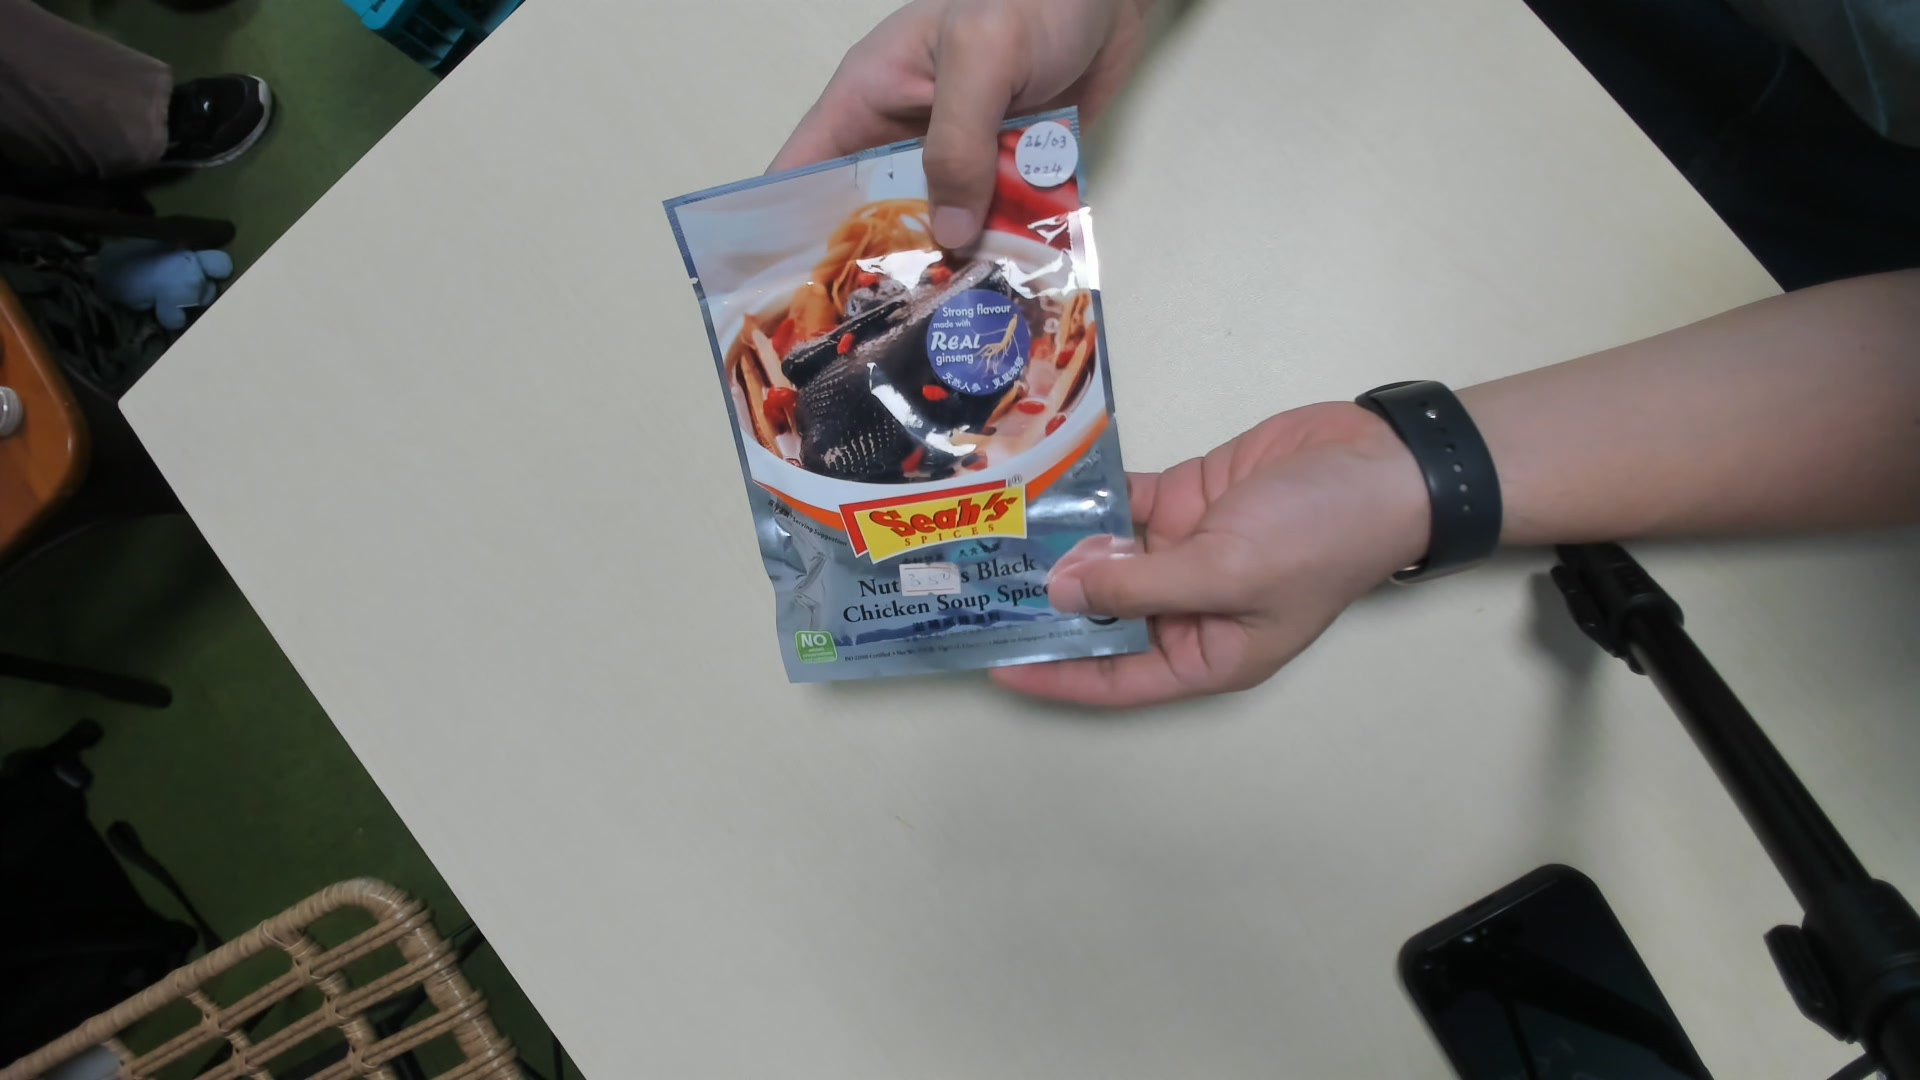OtherSauceDressing_0-99g_NonHalal_NonHealthy: (671, 108, 1153, 694)
